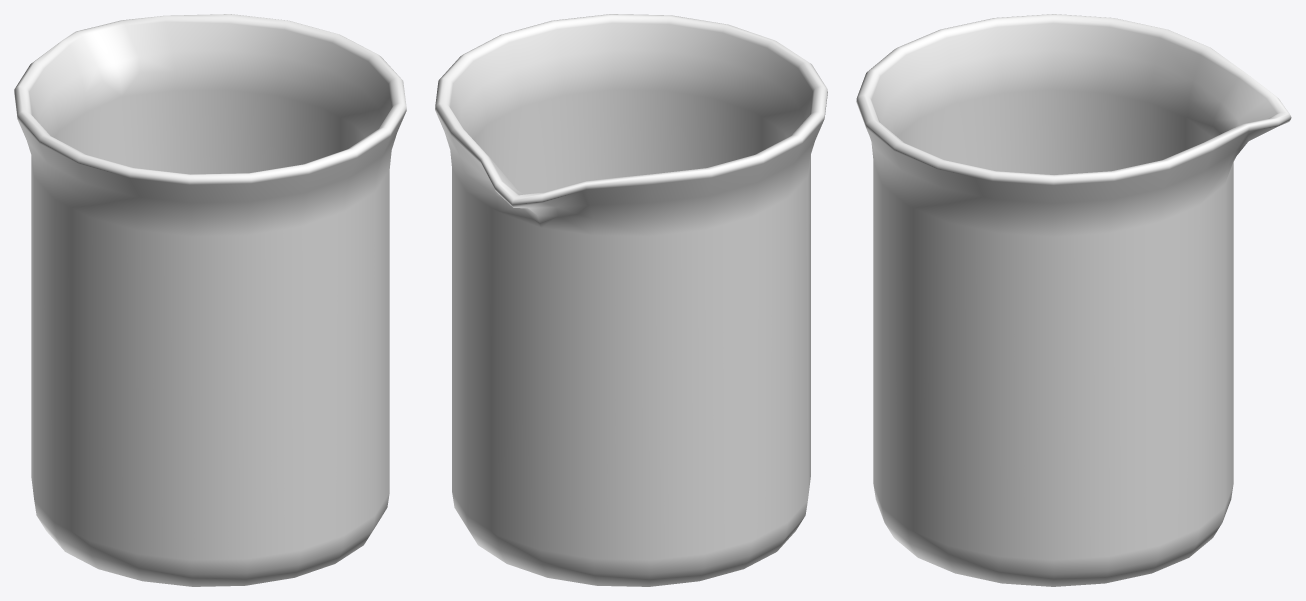
File: cup_250.glb
3 views of the same model, side by side, from view 1: azimuth 30°, elevation 25°; view 2: azimuth 150°, elevation 25°; view 3: azimuth 270°, elevation 25° (orthographic).
Parts seen in each view (by area): view 1: cup_250; view 2: cup_250; view 3: cup_250.
Boxes of the visible parts, bbox=[...] form: cup_250: bbox=[14, 14, 406, 586]; cup_250: bbox=[435, 14, 827, 586]; cup_250: bbox=[856, 14, 1291, 586].
Size of the model in its own units: 0.0502 by 0.0601 by 0.0554.
1 material, 1 textured.
